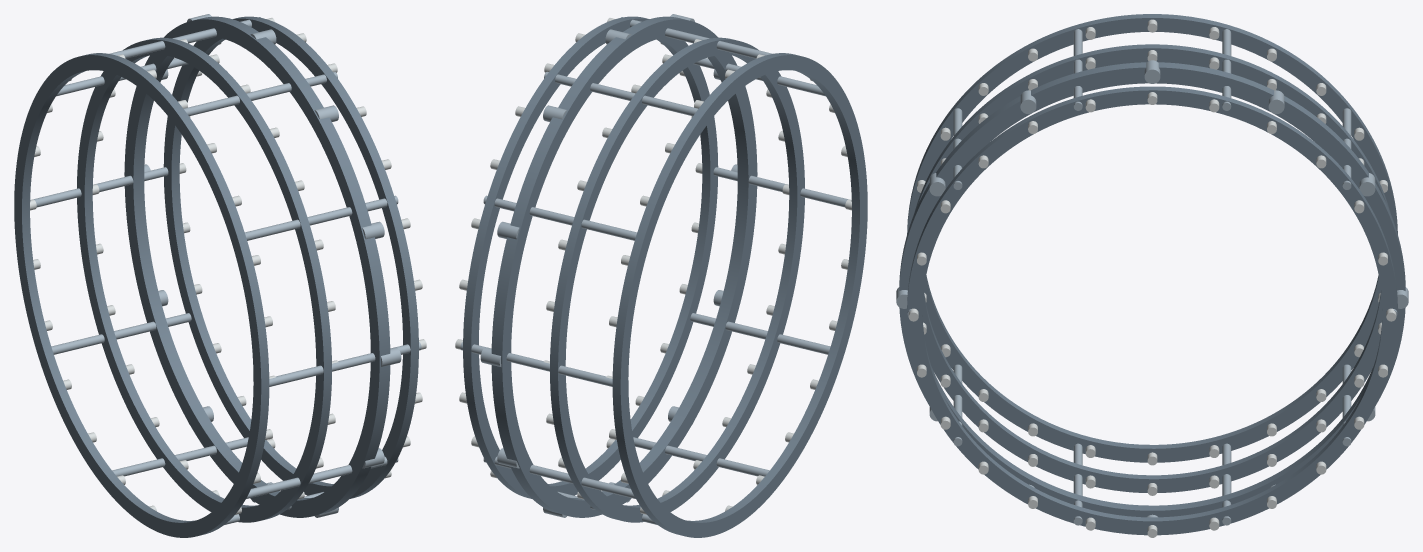
The model's file is compressor-case-detail.glb.
3 renders of one model, left to right at view 1: azimuth 30°, elevation 25°; view 2: azimuth 150°, elevation 25°; view 3: azimuth 270°, elevation 25°, orthographic.
Visible parts, largest first — view 1: compressor-case-detail - shell, compressor-case-detail - steel, compressor-case-detail - fastener; view 2: compressor-case-detail - shell, compressor-case-detail - steel, compressor-case-detail - fastener; view 3: compressor-case-detail - shell, compressor-case-detail - fastener, compressor-case-detail - steel.
Boxes of the visible parts, box(x1,y1,x2,y2) form: compressor-case-detail - shell: box(14, 16, 418, 537); compressor-case-detail - steel: box(31, 14, 421, 524); compressor-case-detail - fastener: box(30, 18, 426, 514); compressor-case-detail - shell: box(463, 16, 867, 537); compressor-case-detail - steel: box(460, 14, 850, 524); compressor-case-detail - fastener: box(455, 18, 851, 514); compressor-case-detail - shell: box(899, 14, 1405, 535); compressor-case-detail - fastener: box(908, 19, 1396, 537); compressor-case-detail - steel: box(896, 29, 1408, 525).
Bounding box in the file's own units: 0.695 × 1.87 × 1.87.
